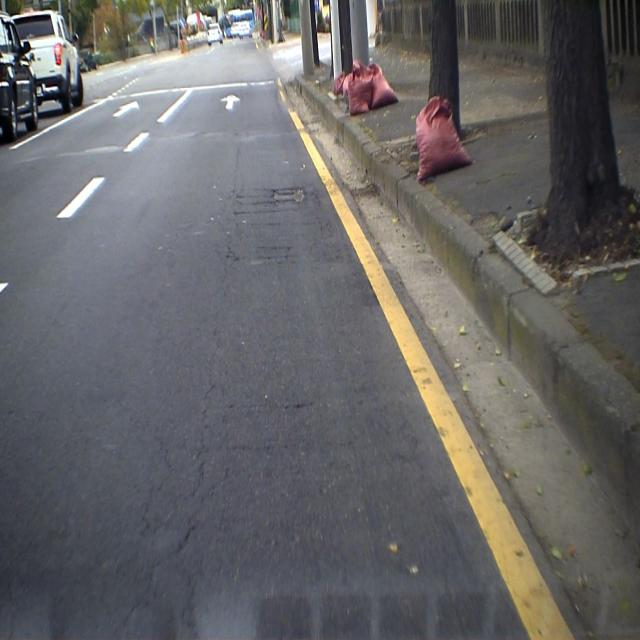Pothole: (233, 180, 316, 224)
